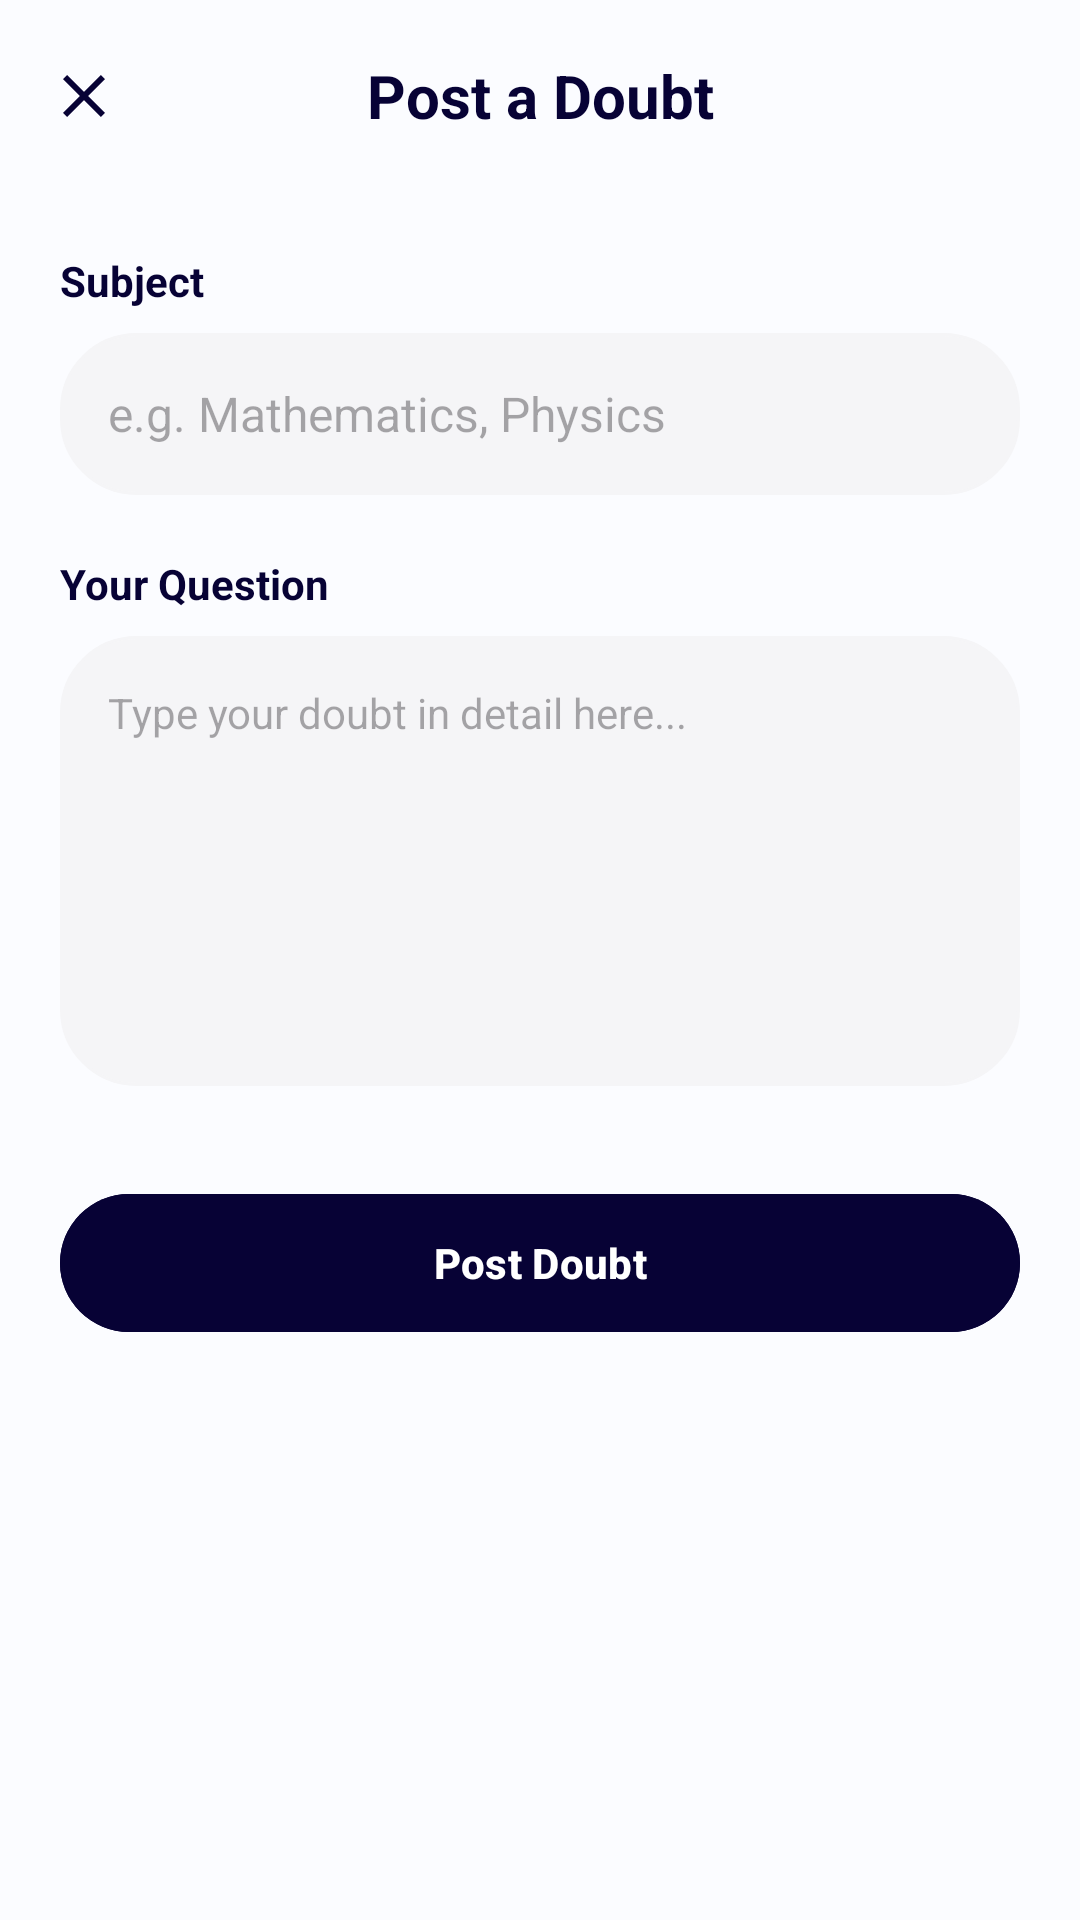

Where to tap for icons on this 1080 x 1920 app screen, as (x=x, y=y):
close: (x=84, y=96)
